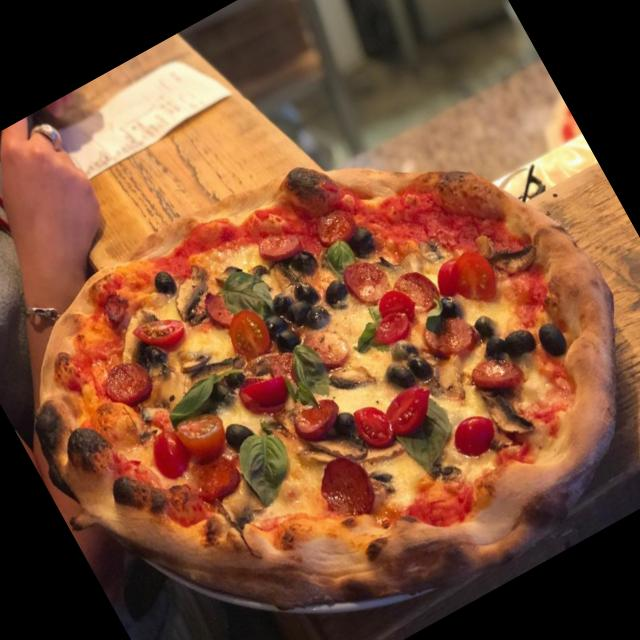black_olives: (255, 278, 338, 358), (369, 328, 436, 402), (466, 304, 517, 366), (530, 312, 577, 366), (203, 366, 253, 415), (496, 316, 544, 363), (326, 398, 370, 448), (339, 218, 382, 264), (317, 272, 357, 316), (318, 270, 358, 314), (220, 415, 260, 456), (289, 242, 327, 282), (434, 286, 470, 328), (142, 336, 176, 374), (150, 261, 184, 297)
mushrooms: (100, 301, 178, 386), (475, 218, 550, 298), (158, 258, 230, 336), (169, 328, 243, 393), (300, 420, 372, 484), (477, 380, 540, 452), (326, 352, 379, 402), (128, 398, 176, 447), (410, 228, 452, 273)
pepperoni: (312, 446, 386, 530), (414, 296, 492, 370), (182, 446, 245, 512), (96, 351, 160, 414), (337, 247, 399, 310), (286, 389, 348, 448), (388, 262, 444, 322), (308, 198, 366, 254), (298, 318, 353, 374), (468, 349, 524, 400), (254, 218, 306, 270), (201, 283, 242, 326)
pizza: (35, 167, 620, 615)
